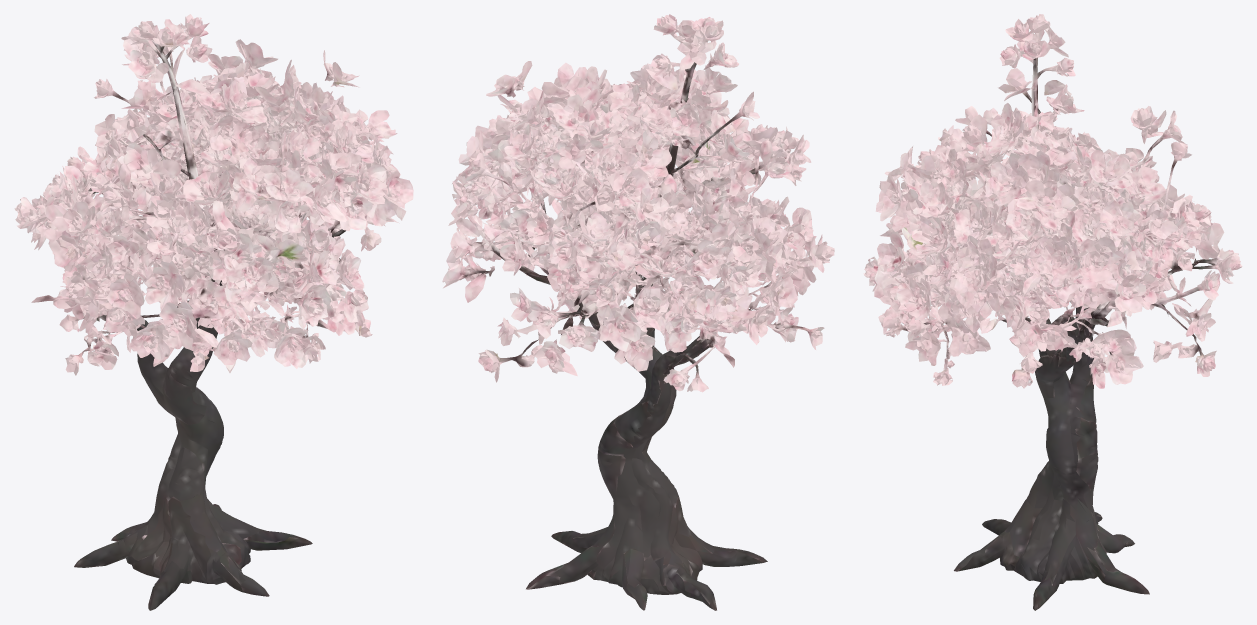
File: lib_blossom.hd.glb
3 renders of one model, left to right at view 1: azimuth 30°, elevation 25°; view 2: azimuth 150°, elevation 25°; view 3: azimuth 270°, elevation 25°, orthographic. The views are drawn at different scales.
Parts seen in each view (by area): view 1: output_unwrapped; view 2: output_unwrapped; view 3: output_unwrapped.
Boxes of the visible parts, x1=… form: output_unwrapped: x1=14, y1=14, x2=413, y2=610; output_unwrapped: x1=442, y1=14, x2=834, y2=610; output_unwrapped: x1=863, y1=14, x2=1242, y2=610.
Size of the model in its own units: 1.26 by 2 by 1.32.
Materials: 1 (1 with a texture image).
